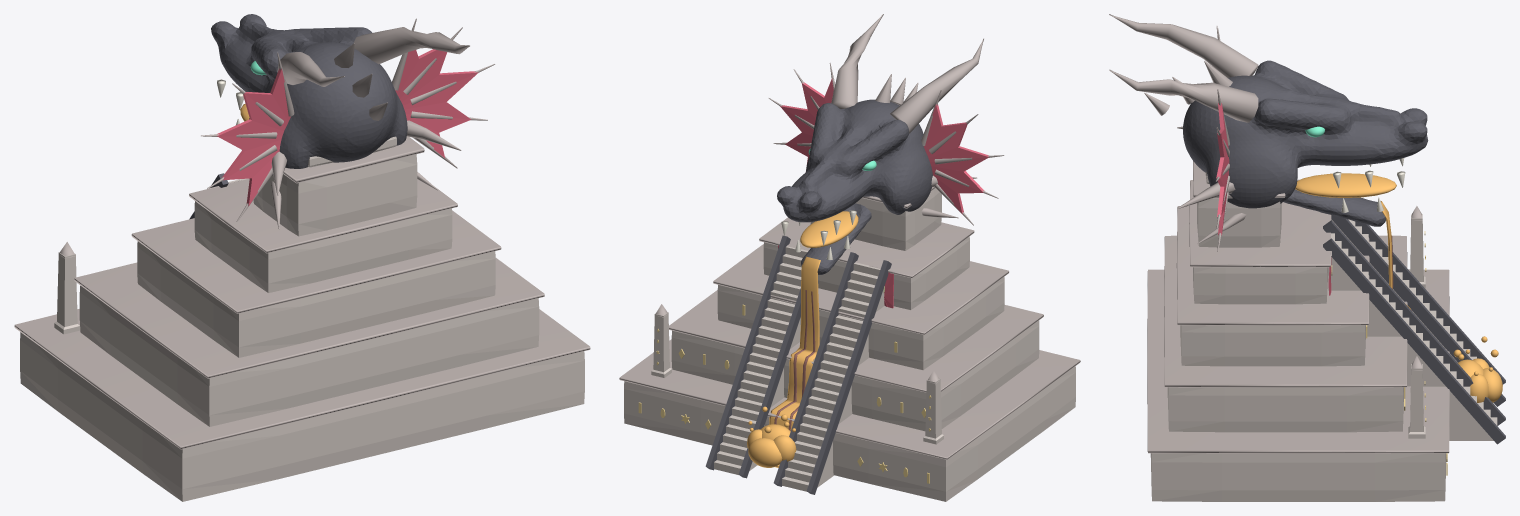
Rendered from DragonTemple.glb.
3 renders of one model, left to right at view 1: azimuth 30°, elevation 25°; view 2: azimuth 150°, elevation 25°; view 3: azimuth 270°, elevation 25°, orthographic. The views are drawn at different scales.
Parts seen in each view (by area): view 1: Stone, Trim, Dark, Cloth; view 2: Stone, Trim, Dark, Lava, Cloth, Crust, Glow; view 3: Stone, Trim, Dark, Lava, Cloth, Teeth.
Part boxes in pixels (box(x1,y1,x2,y2)): Stone: box(20, 136, 584, 501); Trim: box(14, 18, 590, 449); Dark: box(189, 14, 407, 219); Cloth: box(217, 49, 478, 206); Stone: box(624, 188, 1075, 501); Trim: box(619, 14, 1080, 459); Dark: box(705, 99, 932, 494); Lava: box(747, 211, 858, 467); Cloth: box(778, 79, 989, 308); Crust: box(774, 290, 815, 430); Glow: box(638, 304, 931, 483); Stone: box(1150, 172, 1497, 501); Trim: box(1109, 14, 1449, 453); Dark: box(1183, 60, 1505, 444); Lava: box(1295, 173, 1502, 402); Cloth: box(1216, 103, 1331, 295); Teeth: box(1333, 158, 1405, 212).
Bounding box in the file's own units: 102 × 97.52 × 93.86.
